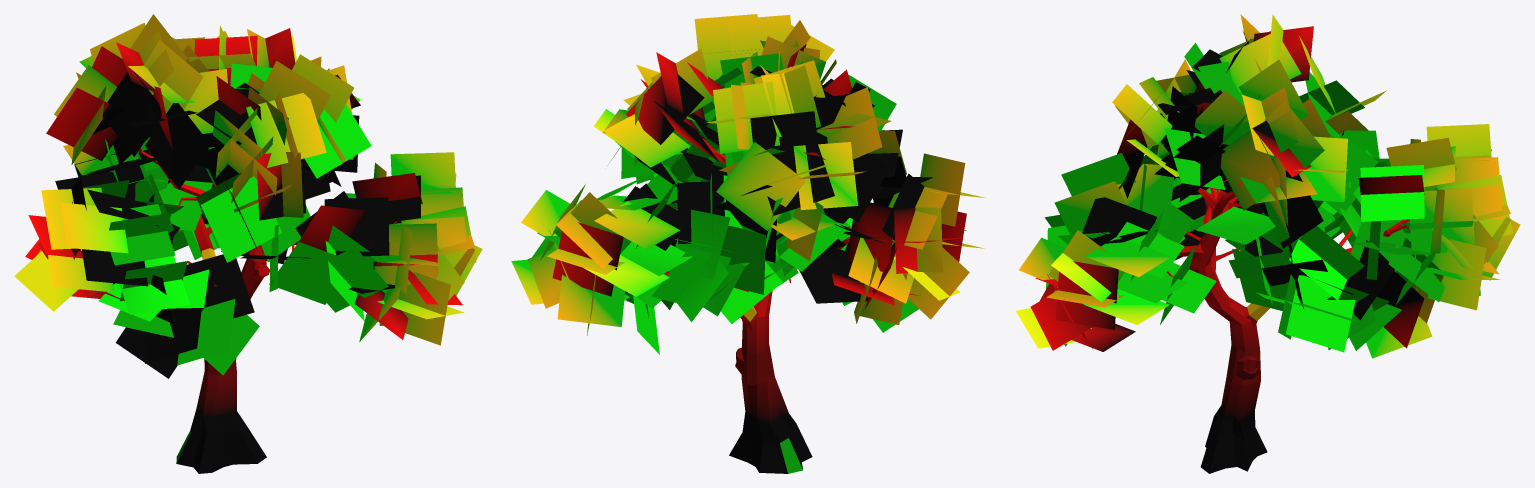
The model's file is SM_Fruit_Tree_01_green.glb.
3 renders of one model, left to right at view 1: azimuth 30°, elevation 25°; view 2: azimuth 150°, elevation 25°; view 3: azimuth 270°, elevation 25°, orthographic.
Parts seen in each view (by area): view 1: SM_Fruit_Tree_01_greenLOD0; view 2: SM_Fruit_Tree_01_greenLOD0; view 3: SM_Fruit_Tree_01_greenLOD0.
Part boxes in pixels (<box>): SM_Fruit_Tree_01_greenLOD0: <box>14,14,482,473</box>; SM_Fruit_Tree_01_greenLOD0: <box>511,14,984,473</box>; SM_Fruit_Tree_01_greenLOD0: <box>1015,14,1520,473</box>.
Size of what is drawn, in the model's own units: 6.5 by 6.58 by 7.25.
2 materials, 2 textured.
